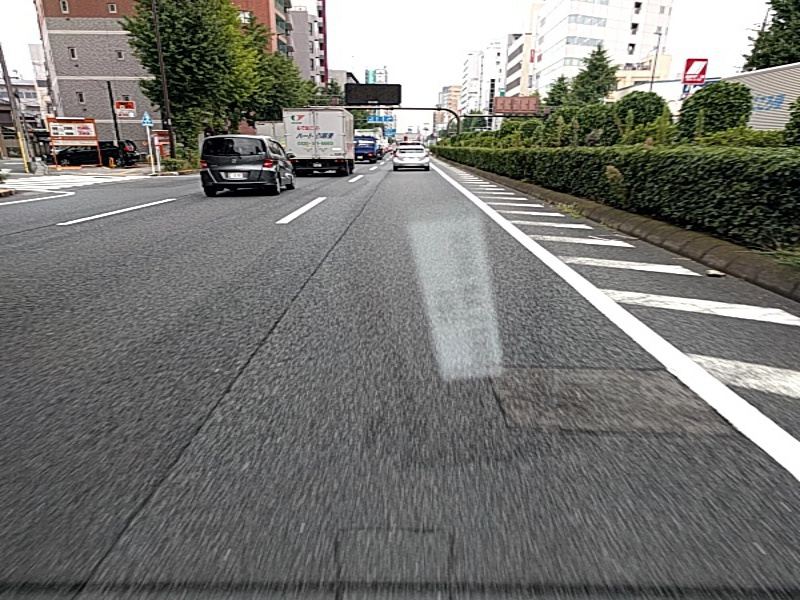long_crack: (139, 201, 383, 515)
